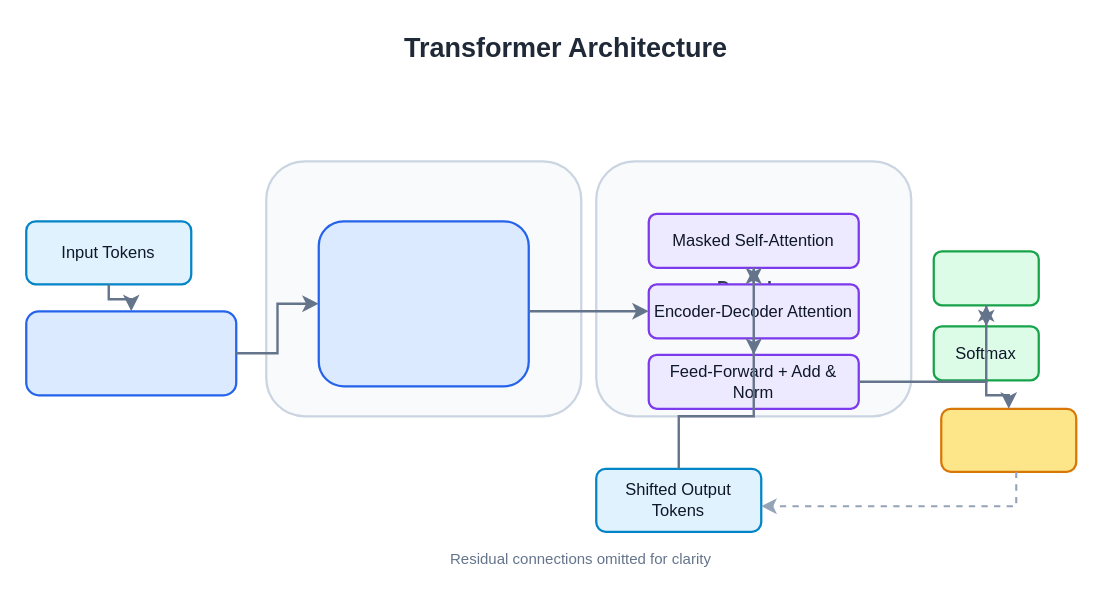
This 1104x599 diagram has some shape labels left out. The shapes that lost their labels are listed below. From the top down, each one's centre as x and y in pixels, then its label:
pixel 985 277: Linear
pixel 423 303: N × Encoder Block Multi-Head Self-Attention Add & Norm Feed-Forward
pixel 130 352: Token Embedding + Positional Encoding
pixel 1008 439: Output Tokens
